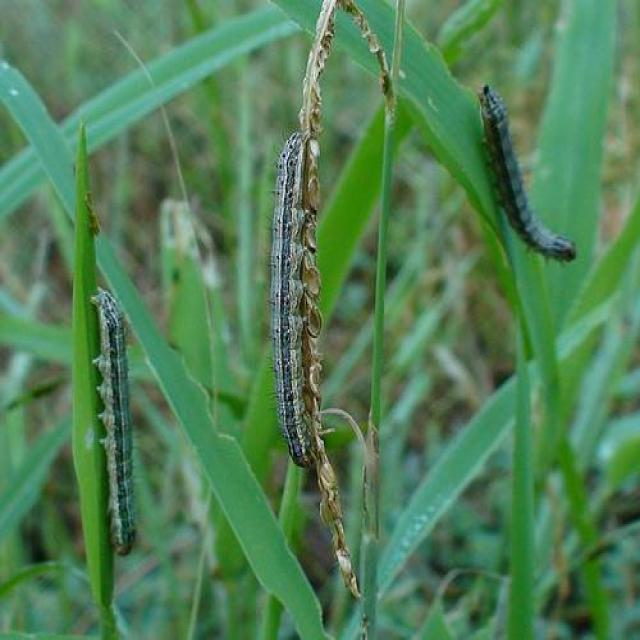pest: (483, 86, 578, 262), (272, 146, 319, 468), (94, 288, 144, 558)
